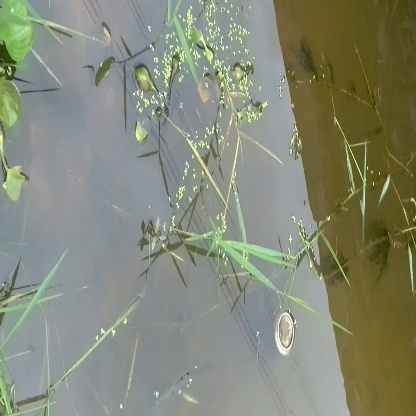bottle: (266, 305, 307, 364)
